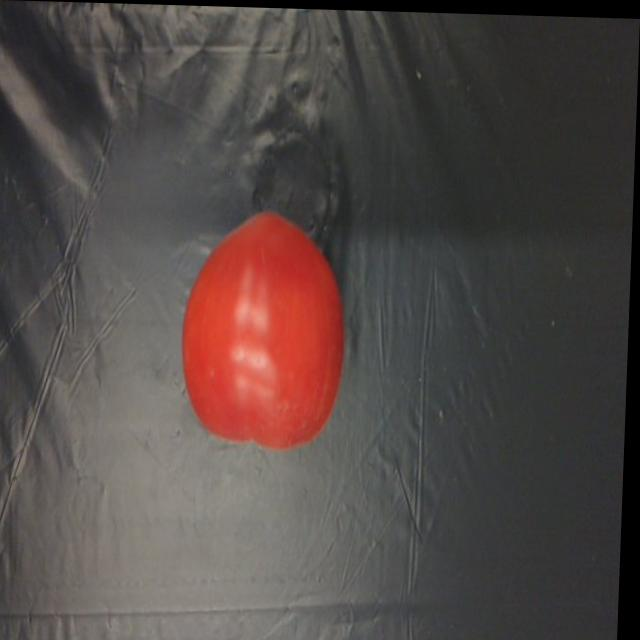kirmizi: (177, 204, 360, 462)
